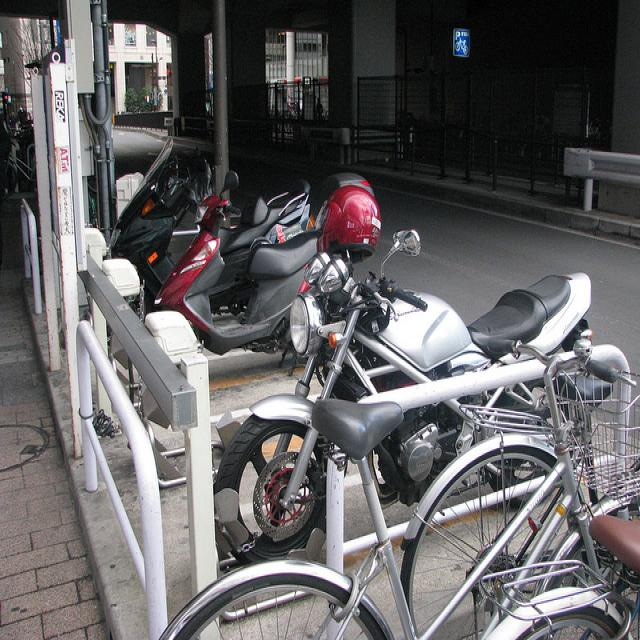motor: (213, 228, 596, 559), (152, 167, 380, 354), (109, 159, 315, 316)
